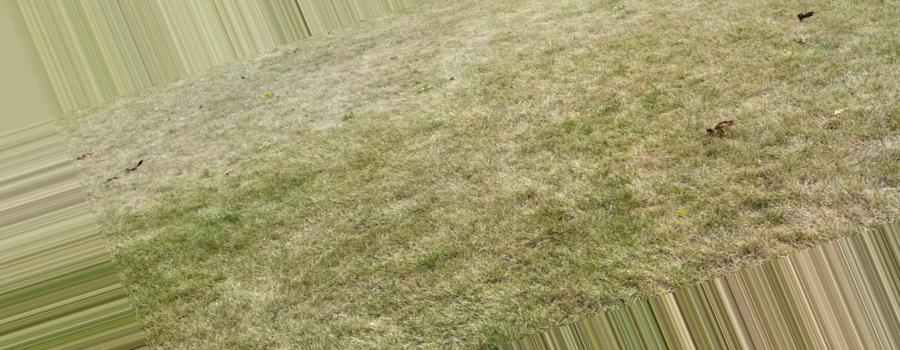patch: (421, 28, 579, 135), (707, 148, 876, 222), (365, 161, 525, 233), (219, 231, 325, 324), (237, 69, 415, 121), (85, 117, 295, 154), (596, 217, 701, 272), (589, 138, 672, 193), (93, 163, 192, 204), (340, 275, 411, 331)
